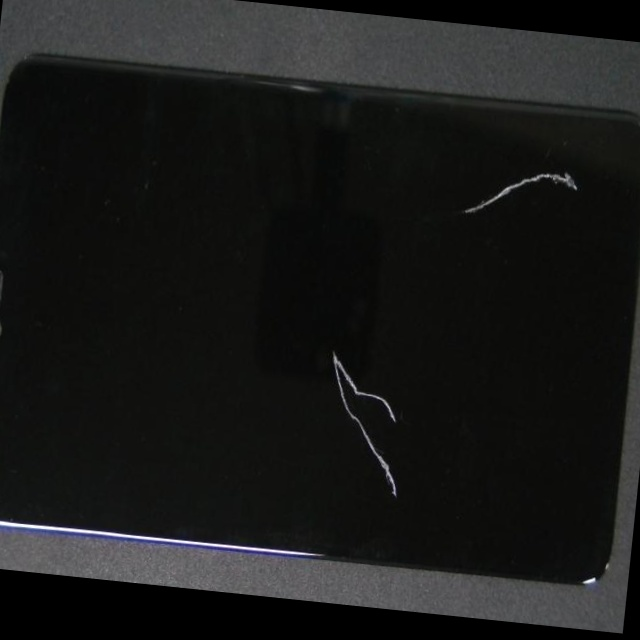scratch: (171, 289, 640, 634), (312, 97, 640, 246)
